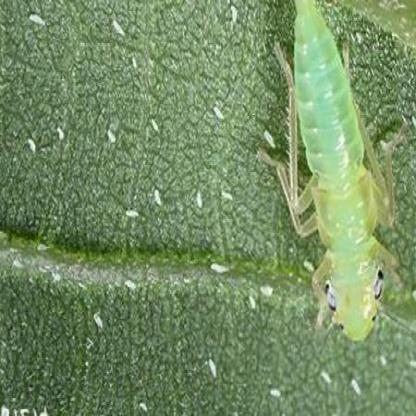green-leafhopper: (286, 1, 395, 340)
